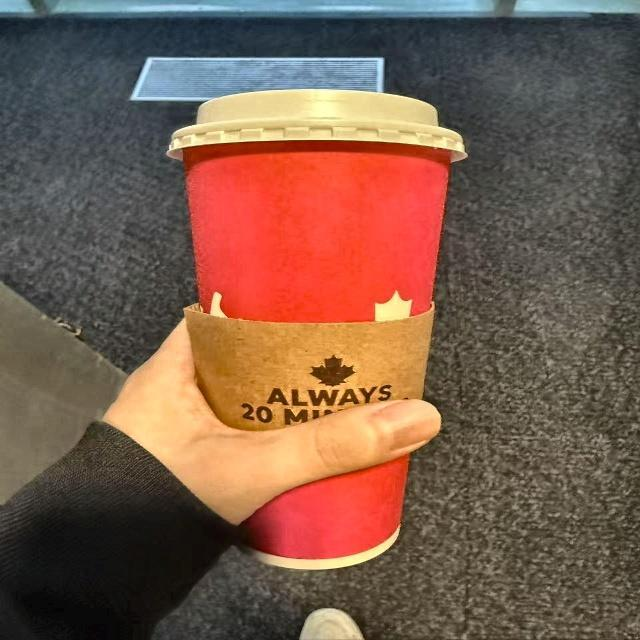timmies: (155, 87, 490, 572)
